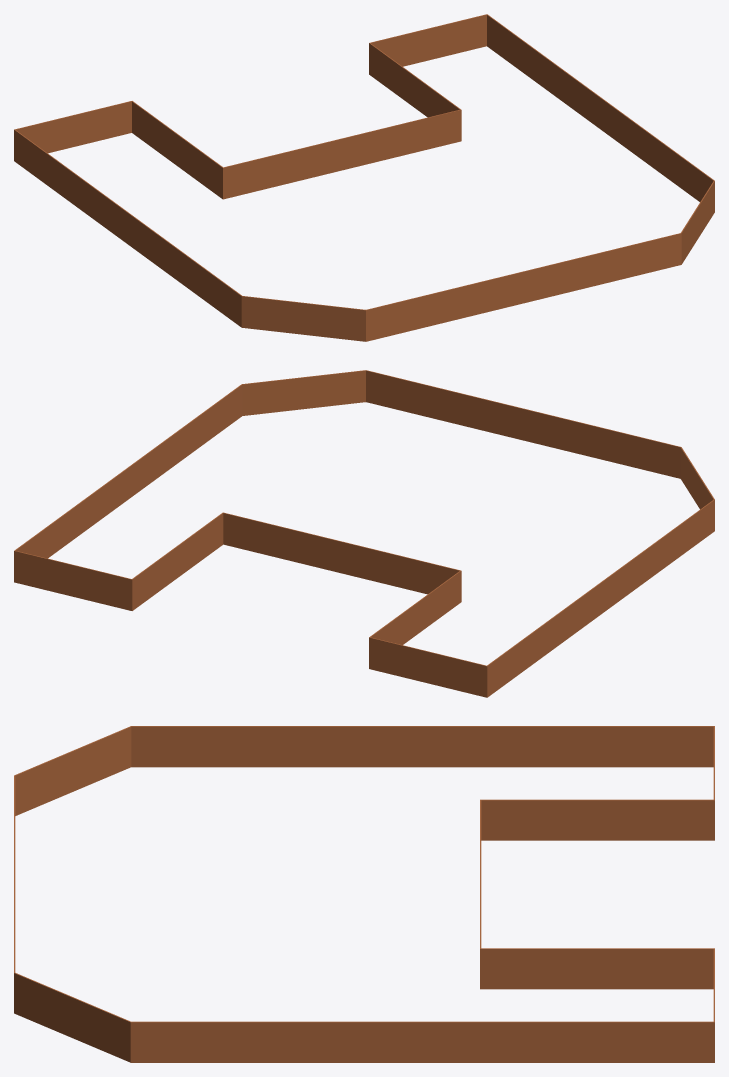
File: ParedExteriorP-1.fbx
3 views of the same model, one above another, from view 1: azimuth 30°, elevation 25°; view 2: azimuth 150°, elevation 25°; view 3: azimuth 270°, elevation 25° (orthographic). The views are drawn at different scales.
Parts seen in each view (by area): view 1: ParedP-1; view 2: ParedP-1; view 3: ParedP-1.
Part boxes in pixels (x1=…): ParedP-1: x1=14, y1=14, x2=714, y2=341; ParedP-1: x1=14, y1=370, x2=714, y2=697; ParedP-1: x1=14, y1=726, x2=714, y2=1062.
Bounding box in the file's own units: 4800 × 306 × 4800.
